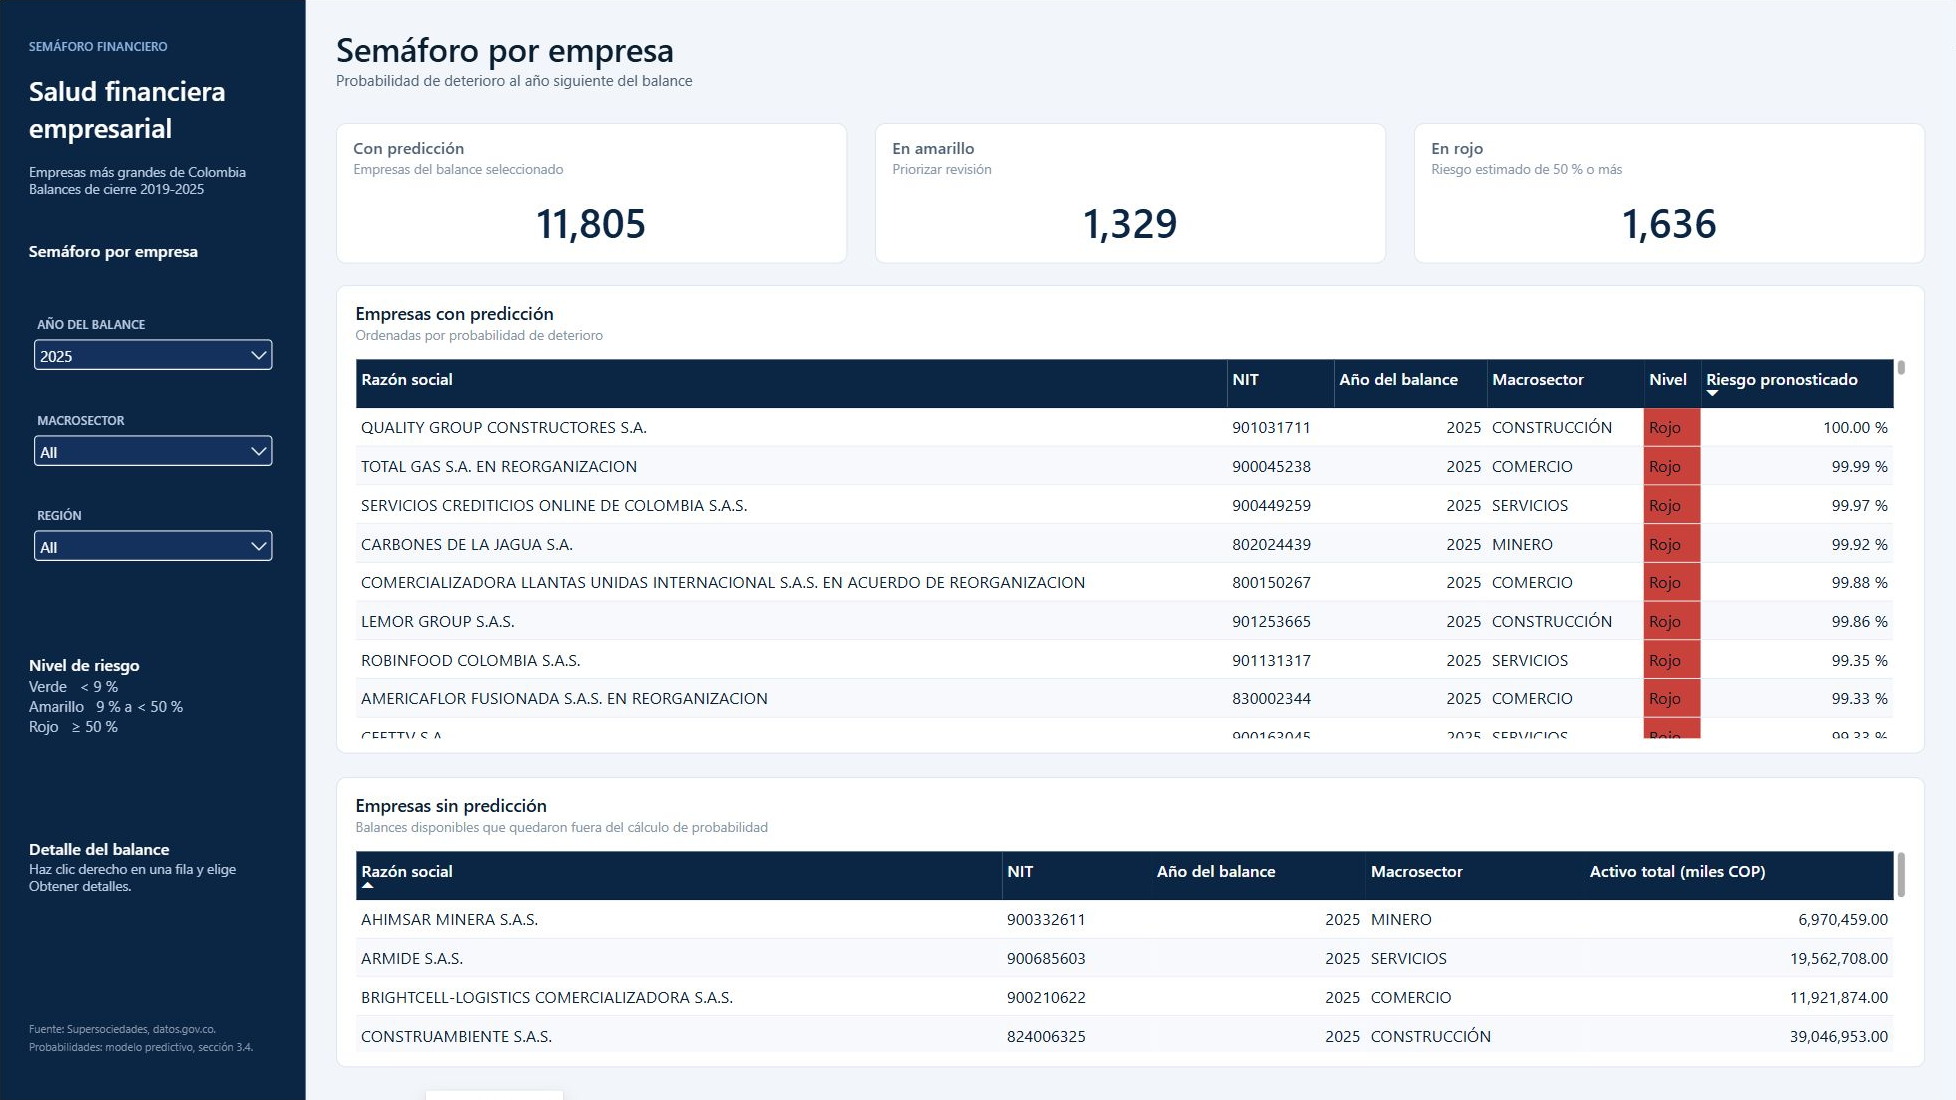

The page's visual inventory and layout, read from the dashboard file:
{"tool":"powerbi","page":{"name":"Semáforo por empresa","canvas":[1920,1080],"ordinal":2},"visuals":[{"type":"textbox","box":[0,0,300,1080],"z":1000},{"type":"textbox","box":[28,36,244,180],"z":2000},{"type":"textbox","box":[28,236,244,40],"z":3000},{"type":"textbox","box":[28,642,244,150],"z":4000},{"type":"textbox","box":[28,823,244,130],"z":5000},{"type":"textbox","box":[28,1000,244,56],"z":5000},{"type":"slicer","fields":{"Values":["dim_tiempo.anio"]},"box":[28,310,244,74],"z":6000},{"type":"slicer","fields":{"Values":["dim_sector.macrosector"]},"box":[28,404,244,74],"z":7000},{"type":"slicer","fields":{"Values":["dim_empresa.region"]},"box":[28,498,244,74],"z":8000},{"type":"textbox","box":[330,26,1560,84],"z":9000},{"type":"card","title":"Con predicción","fields":{"Values":["Medidas.Empresas evaluadas"]},"box":[330,121,502,138],"z":10000},{"type":"card","title":"En amarillo","fields":{"Values":["Medidas.Empresas en amarillo"]},"box":[859,121,502,138],"z":11000},{"type":"card","title":"En rojo","fields":{"Values":["Medidas.Empresas en rojo"]},"box":[1388,121,502,138],"z":12000},{"type":"tableEx","title":"Empresas con predicción","fields":{"Values":["dim_empresa.razon_social","dim_empresa.nit","dim_tiempo.anio","dim_sector.macrosector","dim_semaforo.nivel","Medidas.Probabilidad media"]},"box":[330,280,1560,460],"z":13000},{"type":"tableEx","title":"Empresas sin predicción","fields":{"Values":["dim_empresa.razon_social","dim_empresa.nit","dim_tiempo.anio","dim_sector.macrosector","Avg(fact_indicadores.activo_total)"]},"box":[330,763,1560,285],"z":14000}]}

Visuals, with their boxes on the page's 1920x1080 design canvas (x1, y1, x2, y2). These are canvas units, not pixel positions in the 1956x1100 screenshot, which may show the page scaled, cropped or inside an application window:
textbox: [0, 0, 300, 1080]
textbox: [28, 36, 272, 216]
textbox: [28, 236, 272, 276]
textbox: [28, 642, 272, 792]
textbox: [28, 823, 272, 953]
textbox: [28, 1000, 272, 1056]
slicer - dim_tiempo.anio: [28, 310, 272, 384]
slicer - dim_sector.macrosector: [28, 404, 272, 478]
slicer - dim_empresa.region: [28, 498, 272, 572]
textbox: [330, 26, 1890, 110]
"Con predicción" card: [330, 121, 832, 259]
"En amarillo" card: [859, 121, 1361, 259]
"En rojo" card: [1388, 121, 1890, 259]
"Empresas con predicción" tableEx: [330, 280, 1890, 740]
"Empresas sin predicción" tableEx: [330, 763, 1890, 1048]
